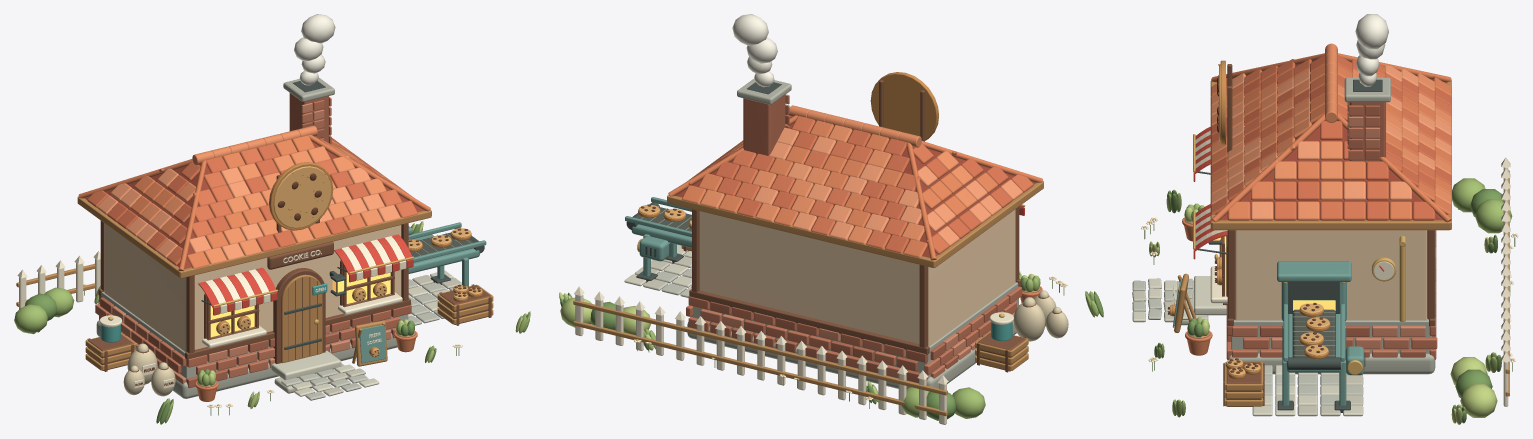
Rendered from cookie_factory.glb.
3 renders of one model, left to right at view 1: azimuth 30°, elevation 25°; view 2: azimuth 150°, elevation 25°; view 3: azimuth 270°, elevation 25°, orthographic. The views are drawn at different scales.
Parts seen in each view (by area): view 1: Vanilla plaster building, Golden oak arched door, Giant cookie sign golden face, Eave fascia, Stone bakery footing, Oak sill course, Hipped roof solid, Arched door walnut casing, Threshold, Side eave fascia, Brick mortar base, Bakery name plaque (+22 smaller); view 2: Vanilla plaster building, Giant cookie sign toasted rim, Fence rail.001, Oak sill course.001, Eave fascia.001, Chimney stack, Fence rail, Stone bakery footing, Brick mortar base, Hipped roof solid, Side eave fascia, Flour sack body (+13 smaller); view 3: Vanilla plaster building, Side eave fascia.001, Hipped roof solid, Stone bakery footing, Service hood, Brick mortar base, Continuous cookie conveyor, Oven dark interior, Low garden shrub.005, Hip seam.002, Sculpted steam puff 3, Threshold (+47 smaller).
Part boxes in pixels (left/top/right/bottom): Vanilla plaster building: left=104, top=223, right=401, bottom=351; Golden oak arched door: left=281, top=274, right=322, bottom=363; Giant cookie sign golden face: left=273, top=166, right=331, bottom=228; Eave fascia: left=180, top=210, right=431, bottom=278; Stone bakery footing: left=96, top=320, right=397, bottom=398; Oak sill course: left=185, top=298, right=410, bottom=359; Hipped roof solid: left=85, top=142, right=423, bottom=268; Arched door walnut casing: left=273, top=268, right=325, bottom=363; Threshold: left=271, top=350, right=341, bottom=379; Side eave fascia: left=77, top=197, right=180, bottom=277; Brick mortar base: left=101, top=292, right=408, bottom=378; Bakery name plaque: left=267, top=241, right=333, bottom=269; Vanilla plaster building: left=699, top=209, right=1015, bottom=346; Giant cookie sign toasted rim: left=870, top=72, right=938, bottom=140; Fence rail.001: left=573, top=300, right=947, bottom=395; Oak sill course.001: left=689, top=289, right=929, bottom=354; Eave fascia.001: left=667, top=195, right=934, bottom=267; Chimney stack: left=743, top=95, right=785, bottom=155; Fence rail: left=573, top=321, right=947, bottom=416; Stone bakery footing: left=687, top=321, right=1016, bottom=388; Brick mortar base: left=692, top=282, right=1018, bottom=377; Hipped roof solid: left=675, top=122, right=1035, bottom=257; Side eave fascia: left=934, top=181, right=1043, bottom=267; Flour sack body: left=1013, top=302, right=1045, bottom=341; Vanilla plaster building: left=1234, top=230, right=1428, bottom=320; Side eave fascia.001: left=1212, top=220, right=1450, bottom=230; Hipped roof solid: left=1220, top=65, right=1442, bottom=220; Stone bakery footing: left=1228, top=353, right=1435, bottom=374; Service hood: left=1277, top=261, right=1351, bottom=281; Brick mortar base: left=1231, top=320, right=1431, bottom=353; Continuous cookie conveyor: left=1292, top=309, right=1335, bottom=357; Oven dark interior: left=1288, top=282, right=1339, bottom=313; Low garden shrub.005: left=1460, top=384, right=1497, bottom=417; Hip seam.002: left=1211, top=113, right=1325, bottom=222; Sculpted steam puff 3: left=1355, top=14, right=1388, bottom=49; Threshold: left=1194, top=276, right=1226, bottom=315.
Size of the model in its own units: 11.02 by 7.66 by 7.86.
